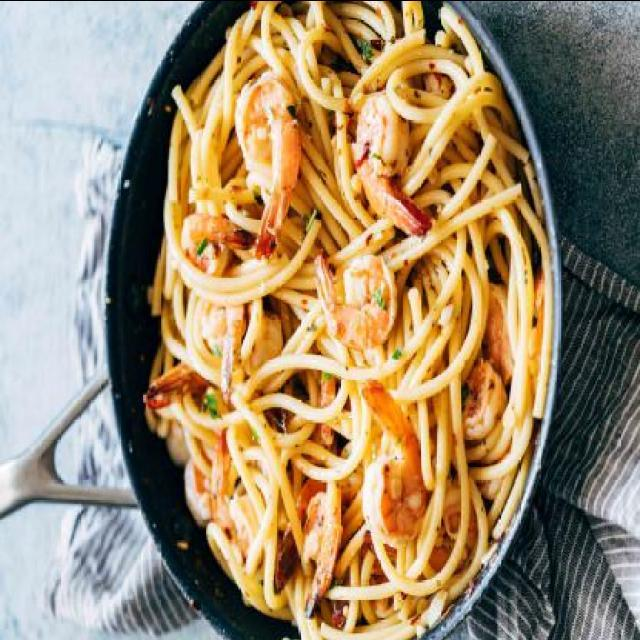Oil pasta: (110, 1, 532, 614)
